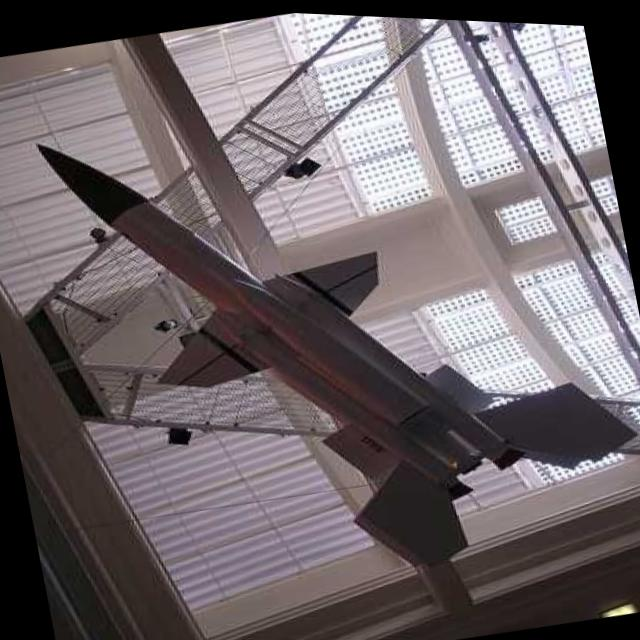missile: (32, 35, 640, 617)
